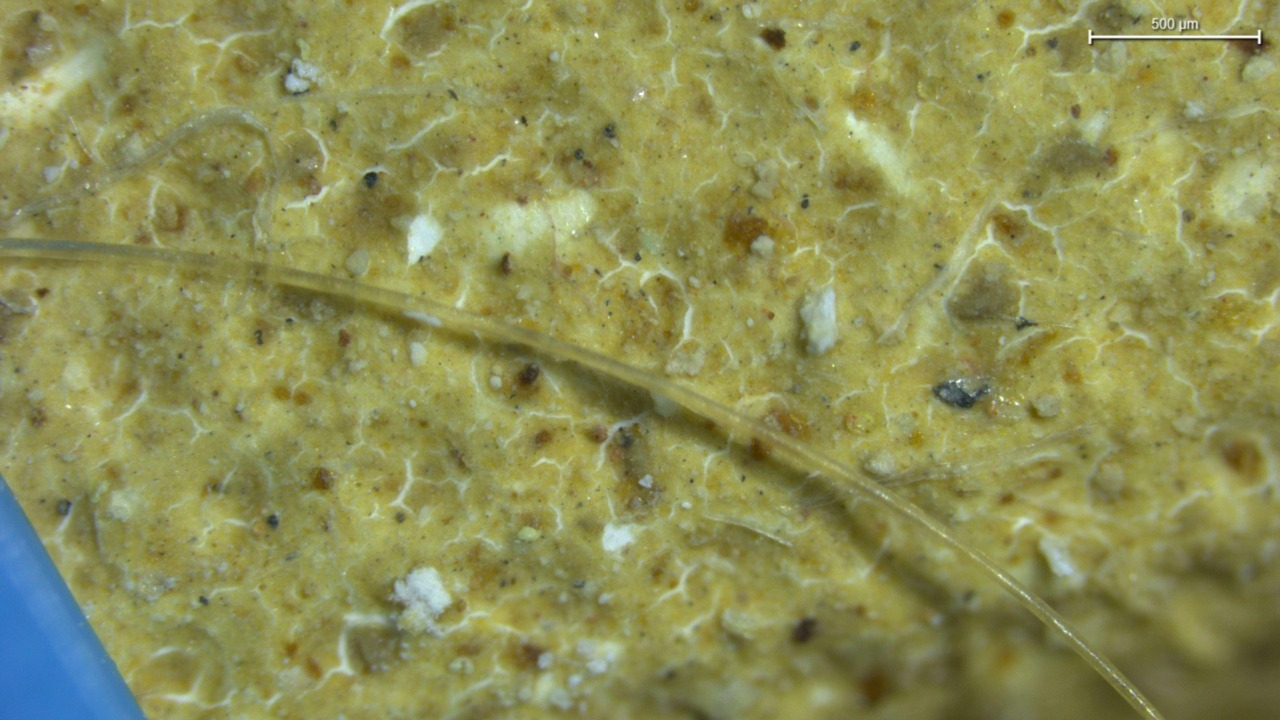microplastic_fragment: (800, 286, 838, 355), (283, 58, 318, 94)
